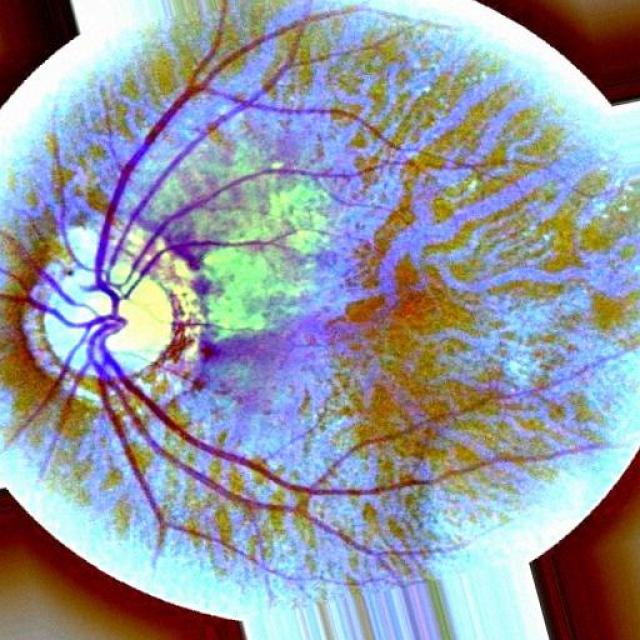Macula: (335, 261, 423, 335)
Nerves: (94, 14, 321, 303), (99, 314, 329, 496), (12, 291, 142, 478)
Optic Disk: (8, 228, 207, 436)
